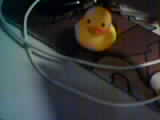duck: (67, 9, 122, 48)
